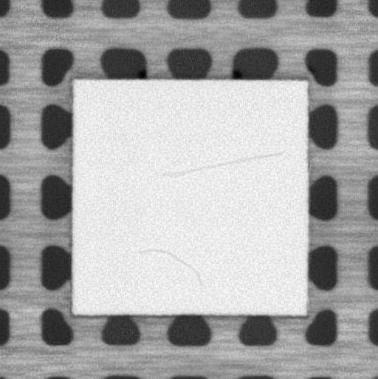DIE_CRACK: (166, 148, 288, 177), (141, 248, 204, 287)
